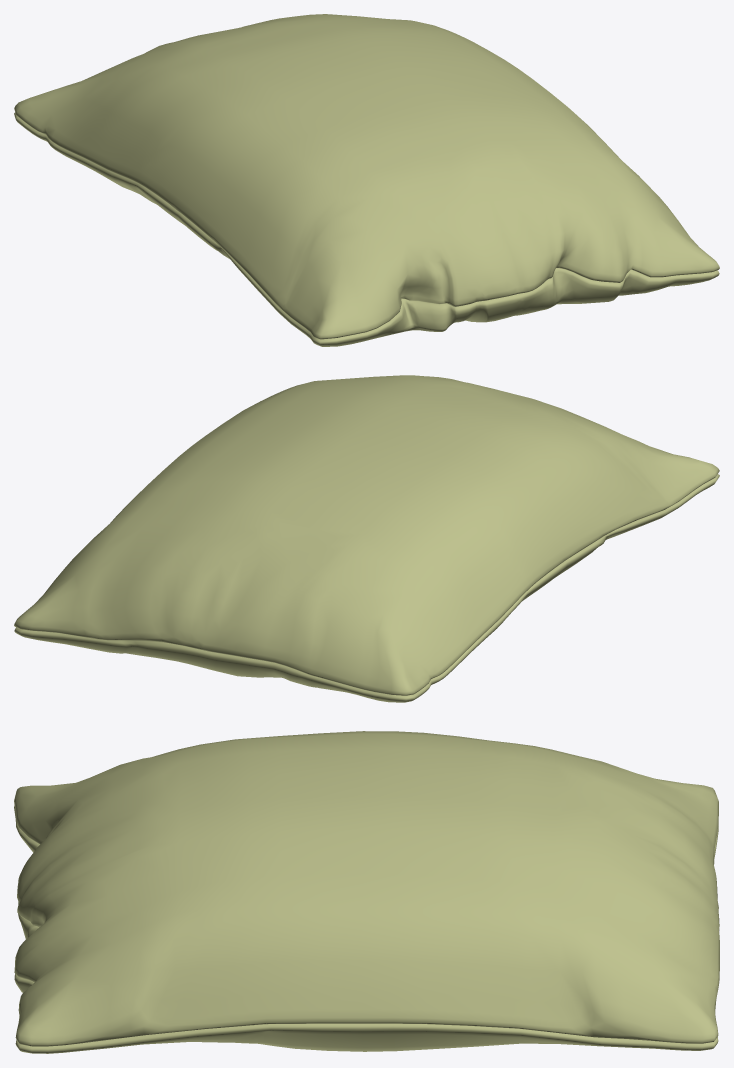
File: Pillow.glb
3 views of the same model, one above another, from view 1: azimuth 30°, elevation 25°; view 2: azimuth 150°, elevation 25°; view 3: azimuth 270°, elevation 25° (orthographic). The views are drawn at different scales.
Parts seen in each view (by area): view 1: Pillow; view 2: Pillow; view 3: Pillow.
Boxes of the visible parts, left/top/right/bottom form: Pillow: left=14, top=14, right=719, bottom=346; Pillow: left=14, top=375, right=719, bottom=702; Pillow: left=14, top=731, right=719, bottom=1053.
Size of the model in its own units: 0.495 by 0.1853 by 0.6549.
